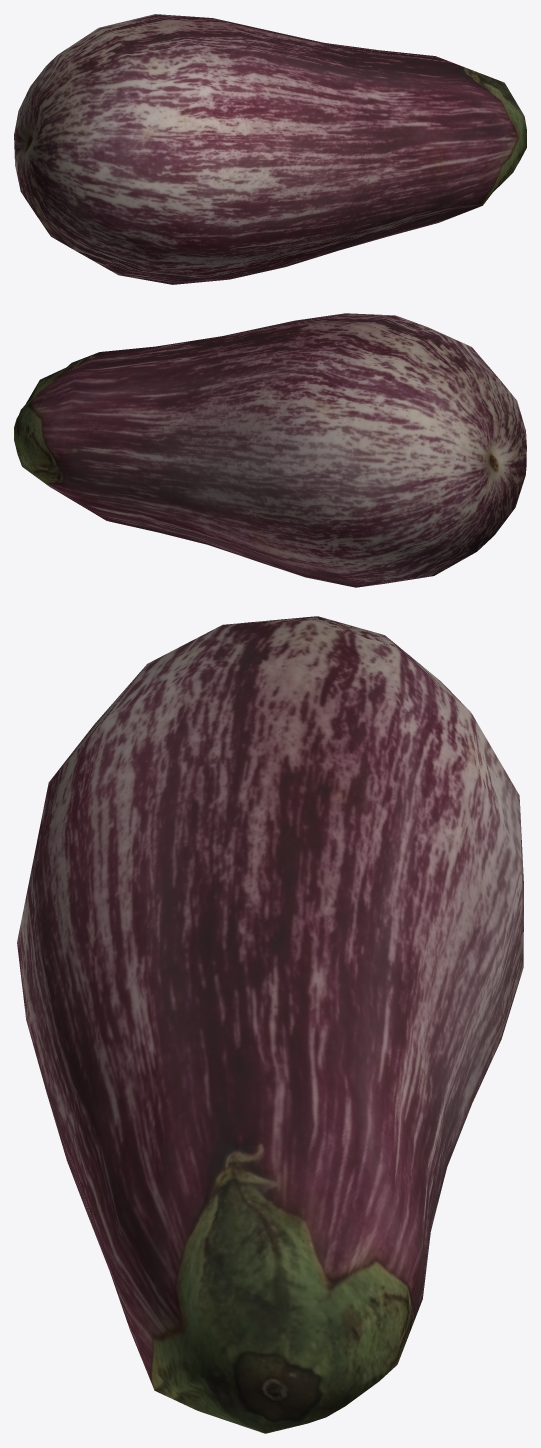
File: A7_Eggplant_low.fbx
3 views of the same model, one above another, from view 1: azimuth 30°, elevation 25°; view 2: azimuth 150°, elevation 25°; view 3: azimuth 270°, elevation 25° (orthographic). The views are drawn at different scales.
Visible parts, largest first — view 1: A7_Eggplant_low; view 2: A7_Eggplant_low; view 3: A7_Eggplant_low.
Part boxes in pixels (left/top/right/bottom): A7_Eggplant_low: left=14, top=14, right=526, bottom=284; A7_Eggplant_low: left=14, top=313, right=526, bottom=587; A7_Eggplant_low: left=17, top=616, right=523, bottom=1433.
Bounding box in the file's own units: 26.62 × 11.88 × 13.12.
Materials: 1 (1 with a texture image).
